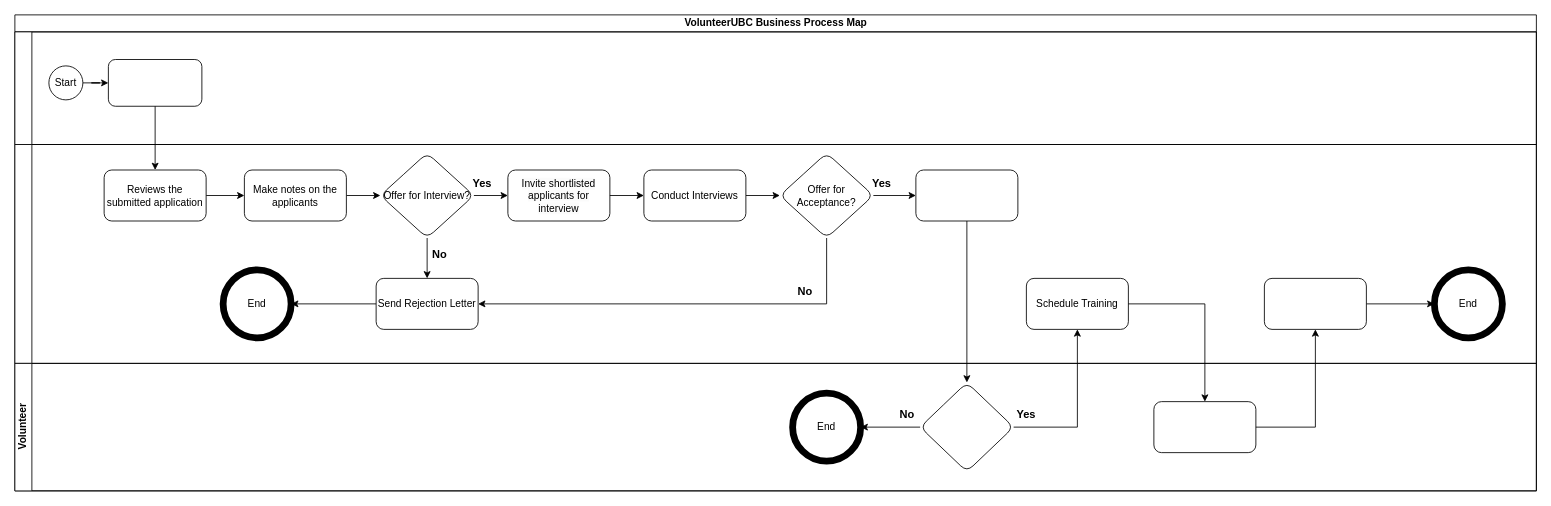
Image size: 1551x506. Some labels were removed from this diagram. Each missing label, with the box of its shape:
Accept Offer?: (919, 382, 1014, 472)
Applicants: (14, 31, 1536, 144)
Apply and Submit application: (108, 59, 202, 106)
HR Department: (14, 144, 1536, 363)
Receive Training: (1153, 401, 1256, 453)
Schedule Shifts: (1264, 278, 1366, 329)
Send Offer: (915, 169, 1018, 221)
